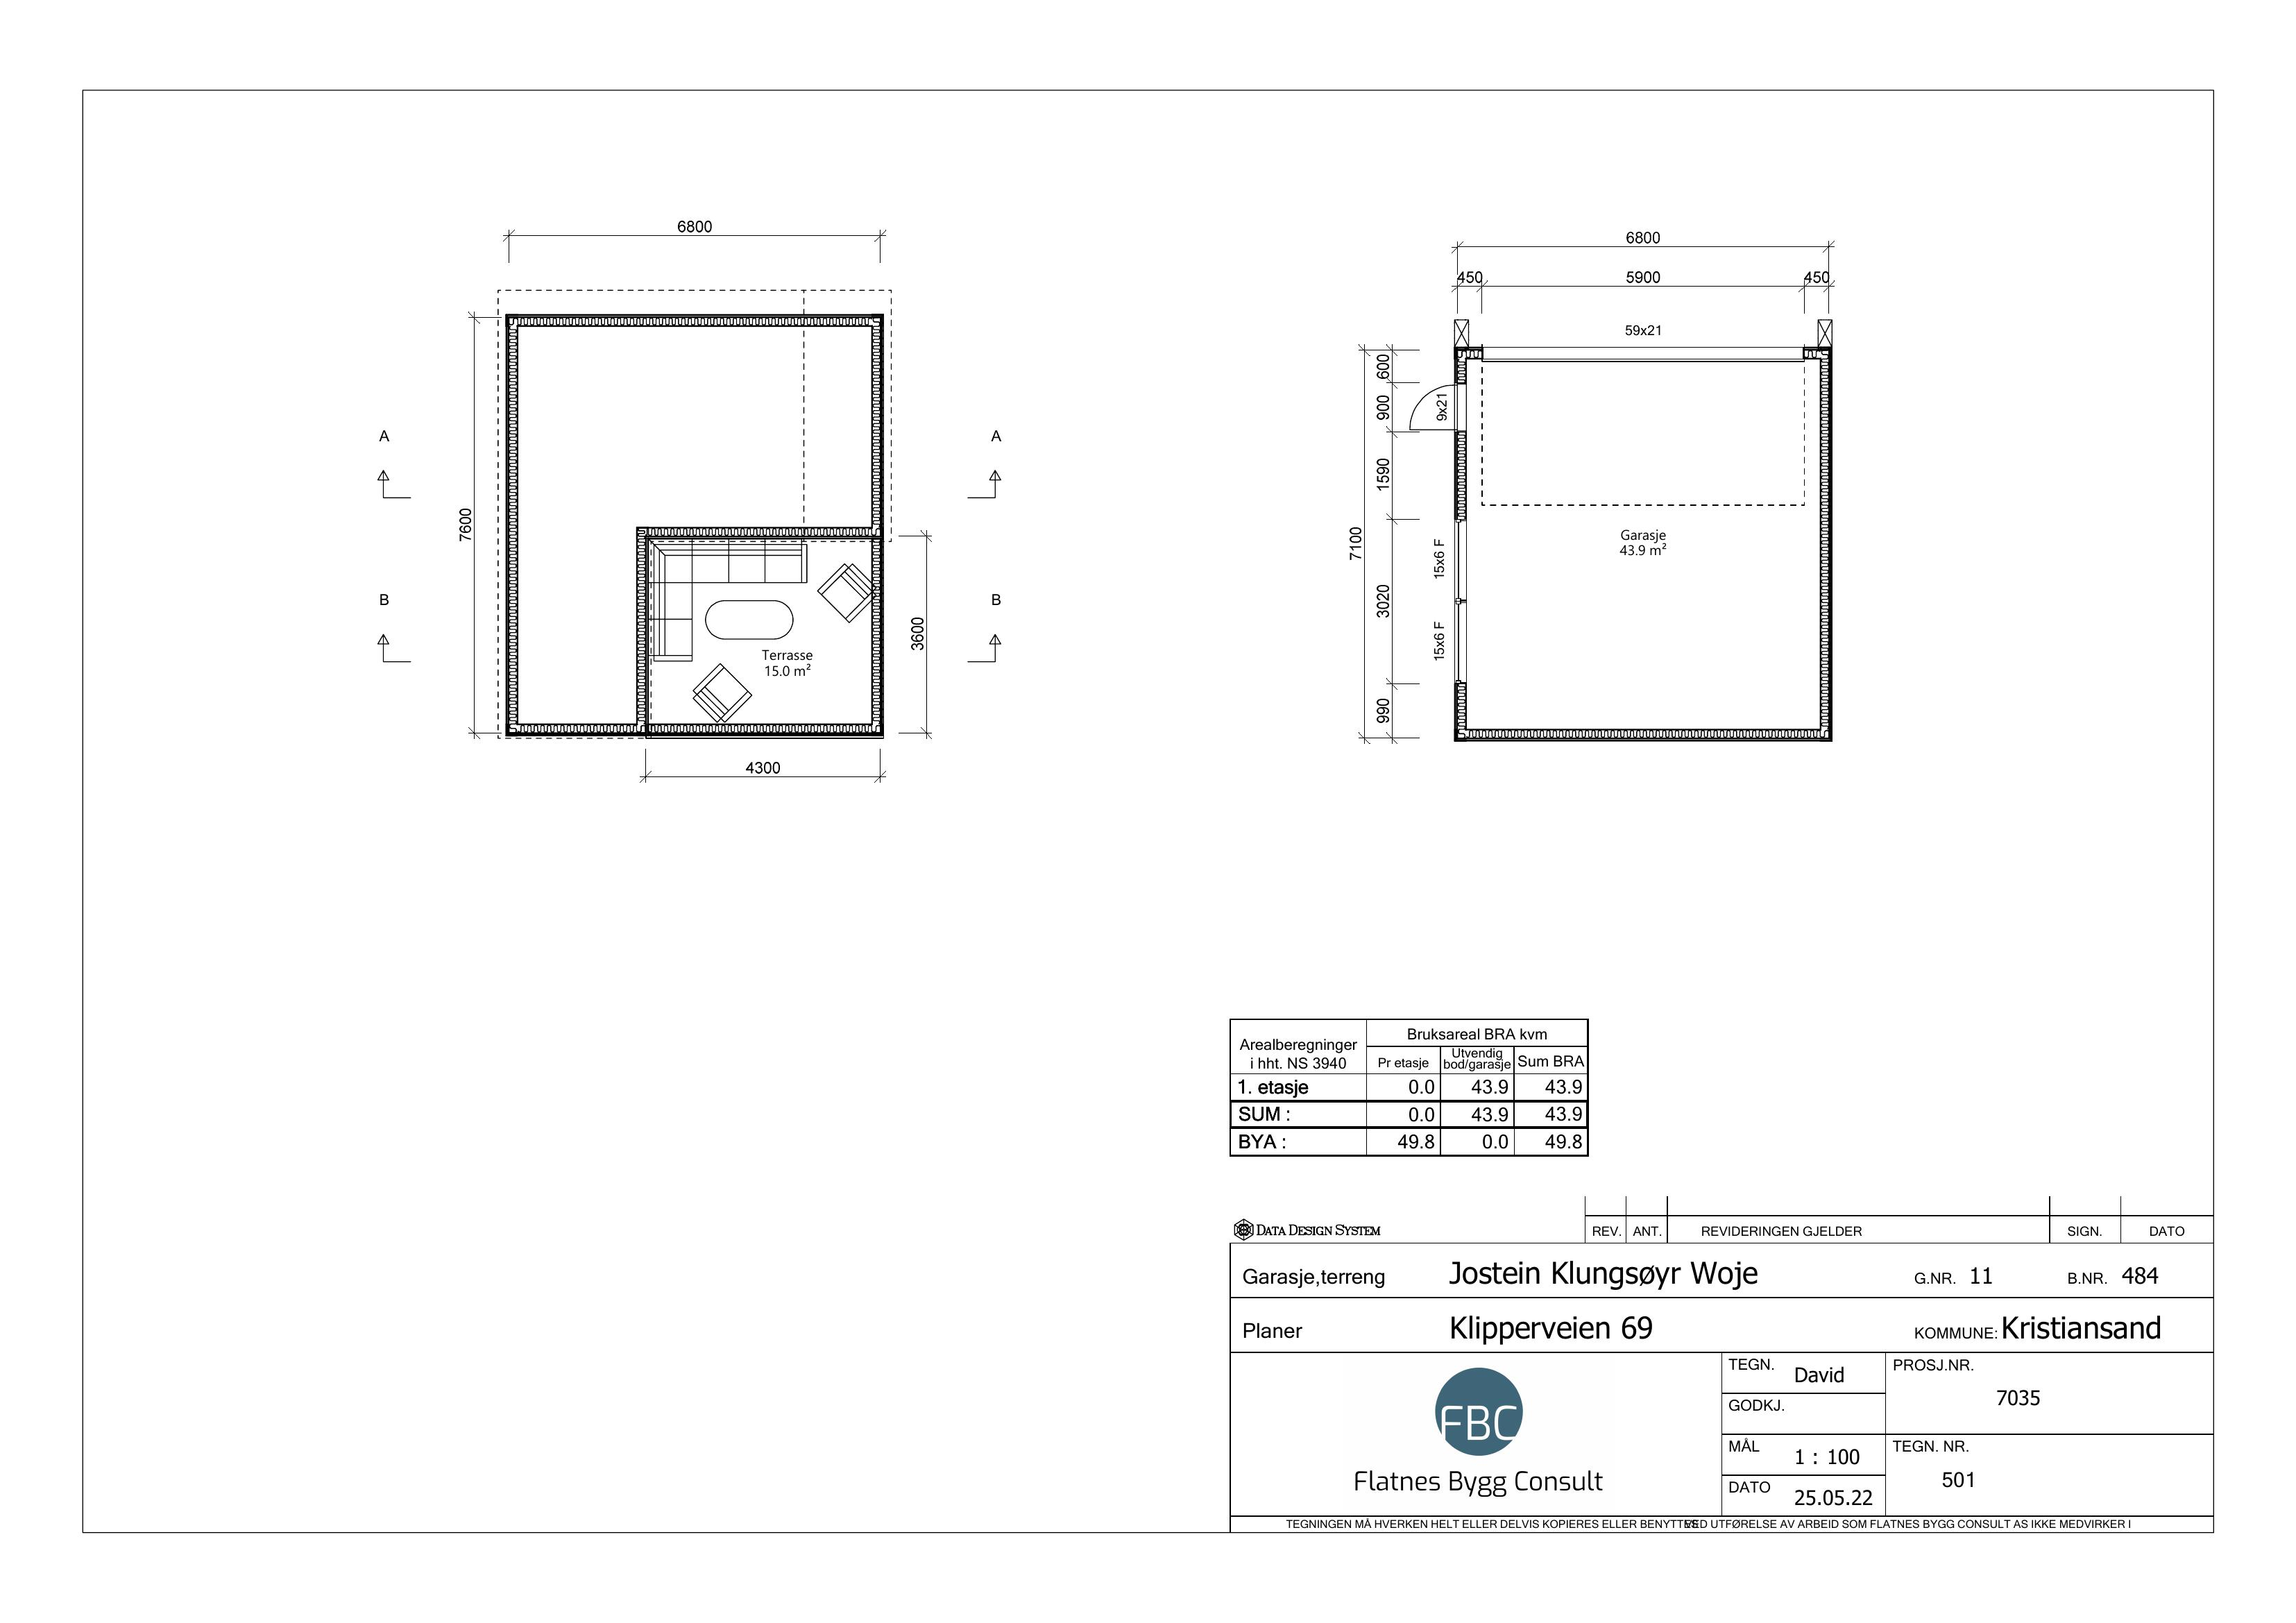plantegning: (465, 283, 937, 790), (1405, 298, 1871, 765)
